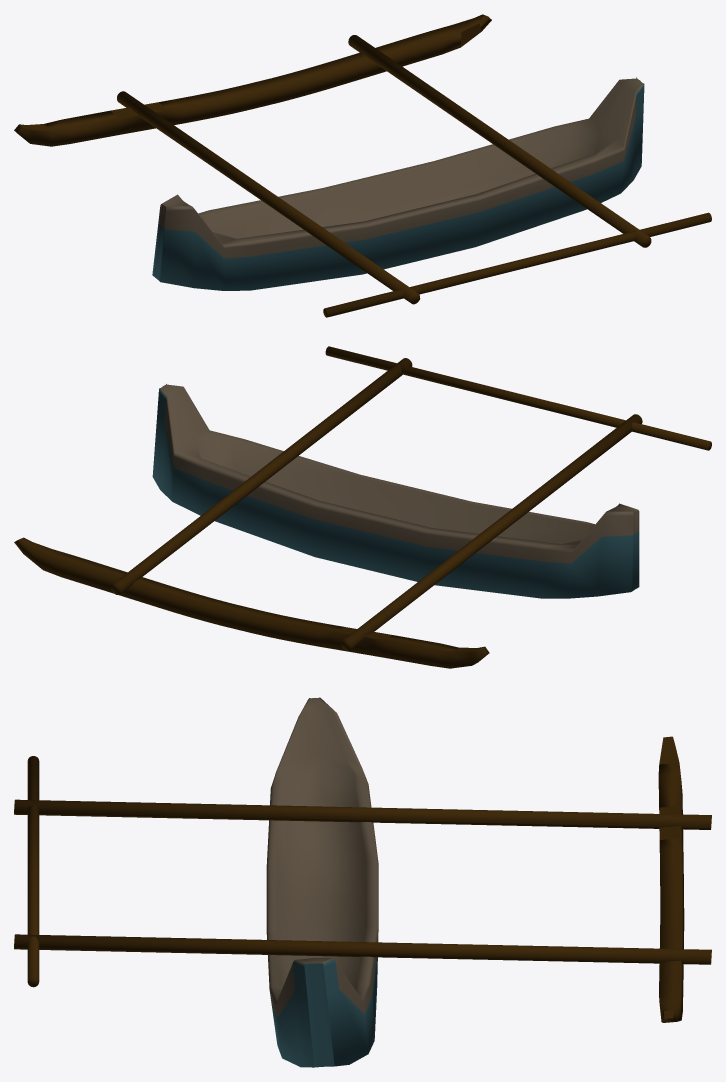
File: pirogue.gltf
3 renders of one model, top to bottom at view 1: azimuth 30°, elevation 25°; view 2: azimuth 150°, elevation 25°; view 3: azimuth 270°, elevation 25°, orthographic. The views are drawn at different scales.
Visible parts, largest first — view 1: Cube; view 2: Cube; view 3: Cube.
Part boxes in pixels (x1=…): Cube: x1=14, y1=14, x2=711, y2=317; Cube: x1=14, y1=346, x2=711, y2=668; Cube: x1=14, y1=697, x2=711, y2=1067.
Size of the model in its own units: 6.97 by 1.58 by 7.34.
